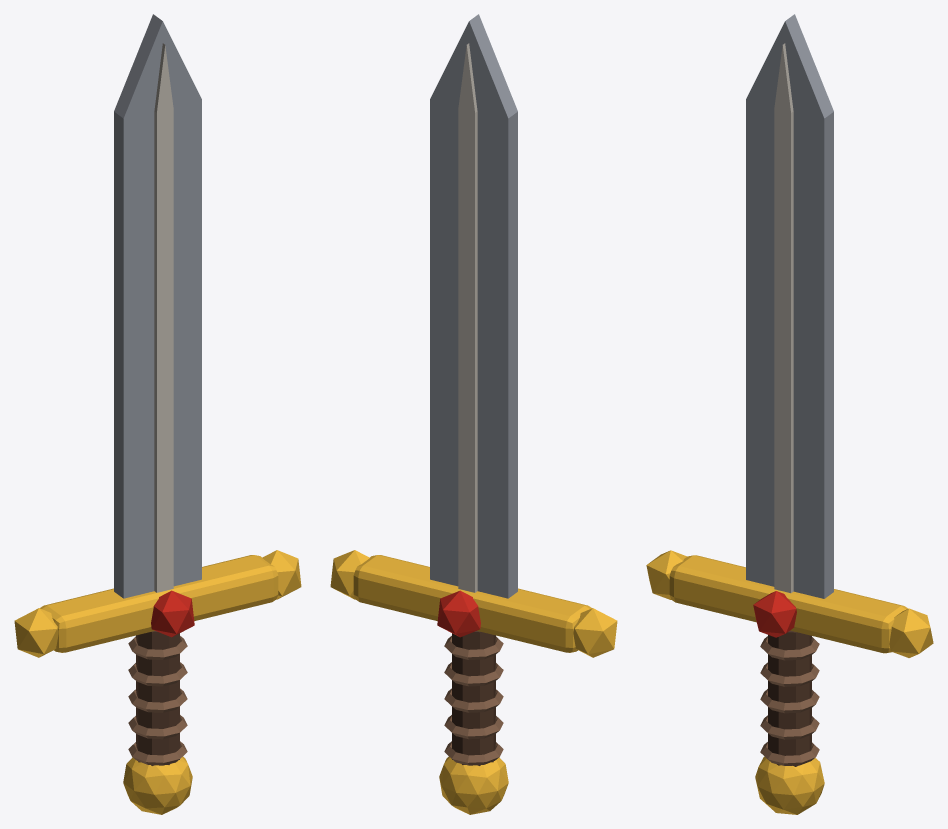
File: sword.obj
3 views of the same model, side by side, from view 1: azimuth 30°, elevation 25°; view 2: azimuth 150°, elevation 25°; view 3: azimuth 330°, elevation 25° (orthographic).
Visible parts, largest first — view 1: sword; view 2: sword; view 3: sword.
Boxes of the visible parts, bbox=[...] form: sword: bbox=[14, 14, 301, 814]; sword: bbox=[330, 14, 617, 814]; sword: bbox=[646, 14, 933, 814].
Size of the model in its own units: 2 by 5.42 by 0.6122.
Materials: 1 (1 with a texture image).
